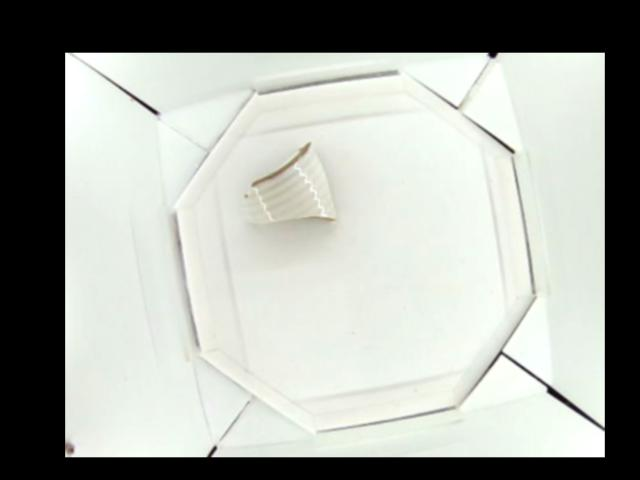China: (241, 142, 340, 224)
